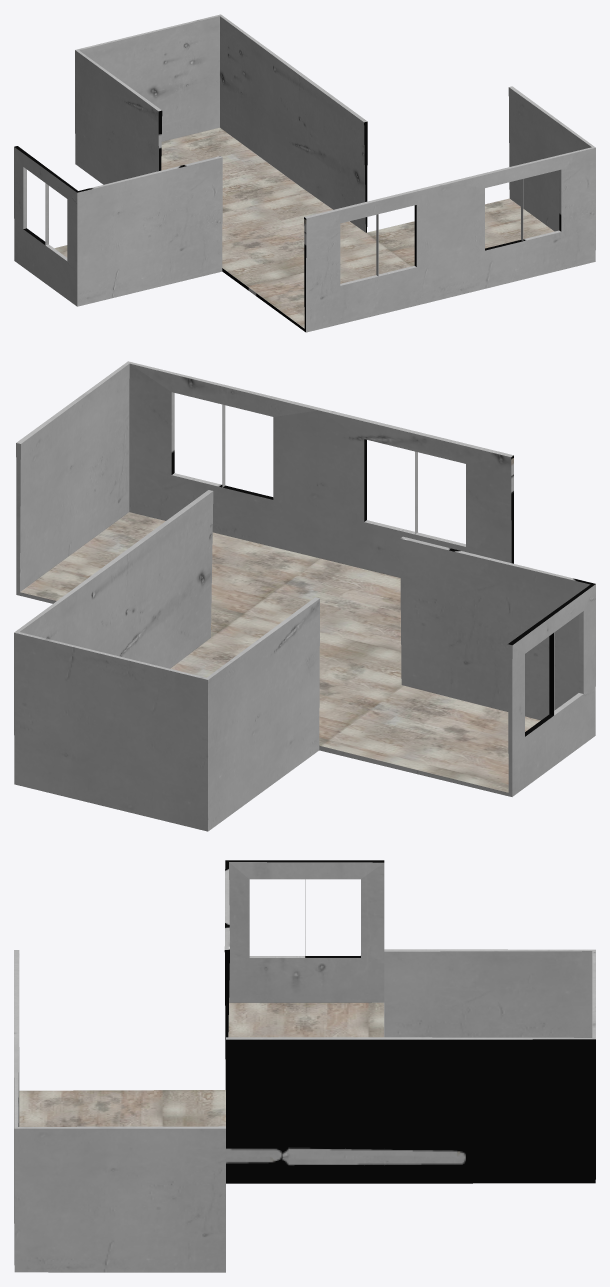
The model's file is apartment.fbx.
3 views of the same model, one above another, from view 1: azimuth 30°, elevation 25°; view 2: azimuth 150°, elevation 25°; view 3: azimuth 270°, elevation 25° (orthographic). The views are drawn at different scales.
Visible parts, largest first — view 1: main_apartment_export; view 2: main_apartment_export; view 3: main_apartment_export.
Boxes of the visible parts, x1,y1,x2,y2 form: main_apartment_export: (14,14,595,332); main_apartment_export: (14,361,595,831); main_apartment_export: (14,860,595,1272).
Bounding box in the file's own units: 1205 × 302 × 1104.
1 material, 1 textured.
